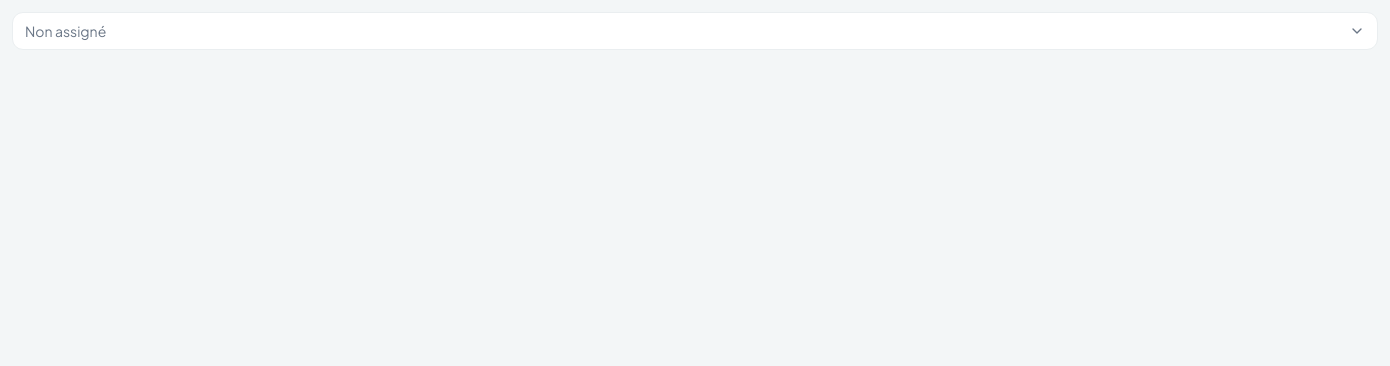
it: SearchableSelect — groupes › n’annonce pas un groupe que la recherche a vidé
The image size is (1390, 366).
Click the button with aria-label "choisir le collaborateur" at [66, 31], box [12,12,1378,50]
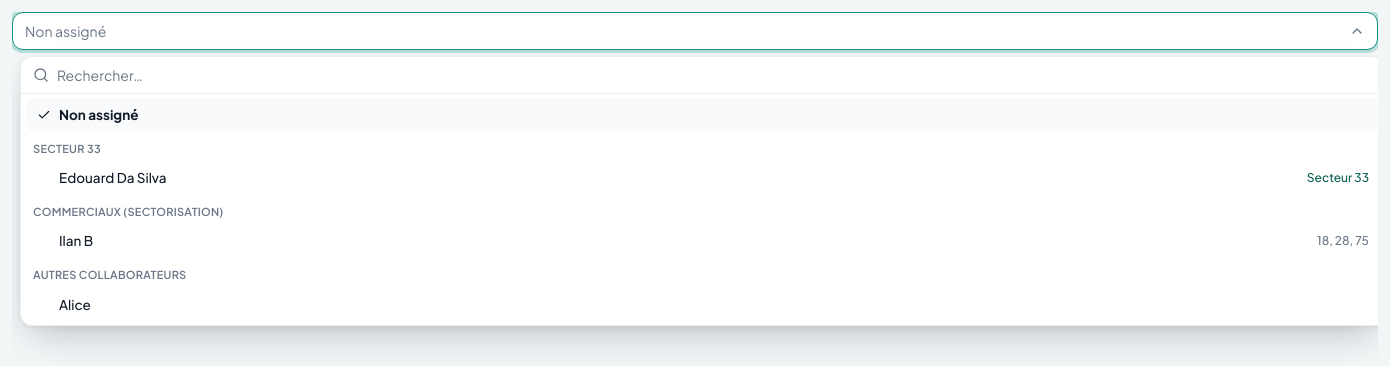
Type "alice" into the dropdown at [715, 75], box [57,65,1373,85]
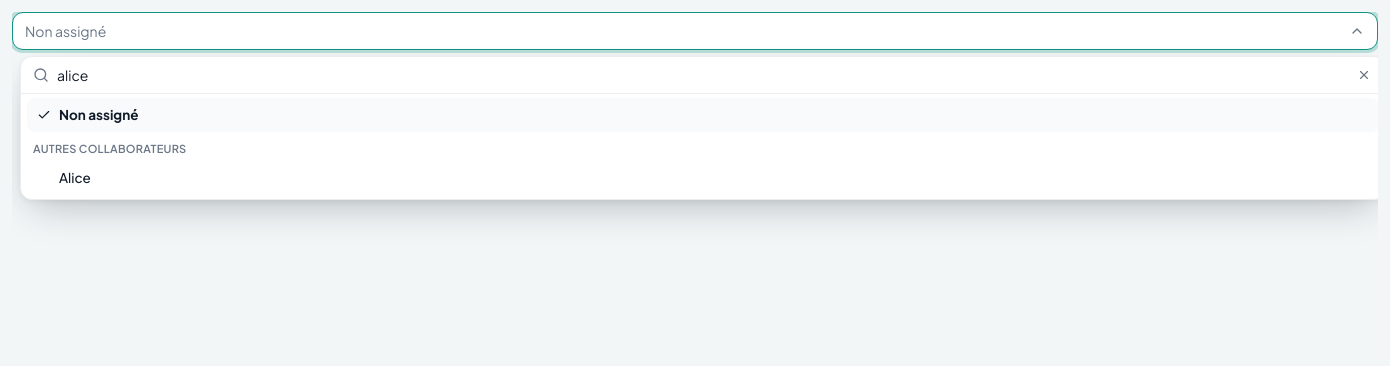
Check: the list item "Autres collaborateurs" is shown, box [33,142,186,155]
Check: the list item "Secteur 33" is gone
